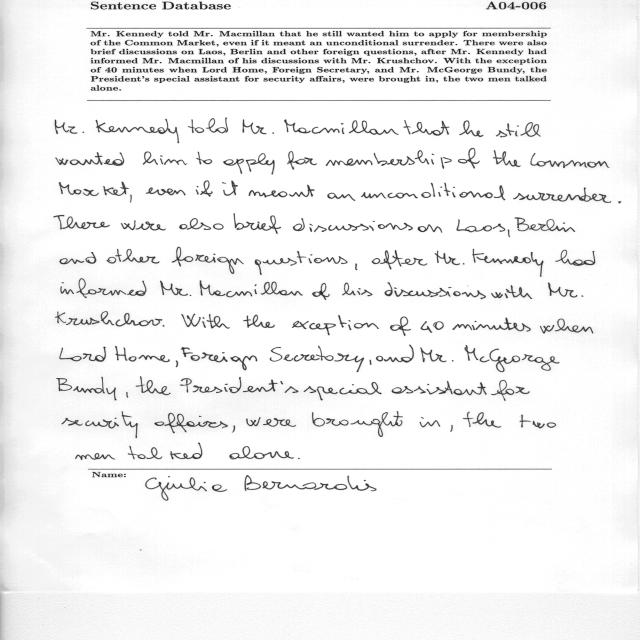word: (465, 345, 560, 372), (361, 183, 505, 200), (270, 346, 364, 372), (326, 150, 452, 169), (312, 412, 403, 437), (255, 251, 348, 275), (96, 119, 180, 143), (472, 249, 544, 277), (62, 412, 138, 438), (172, 247, 244, 274), (180, 377, 299, 393), (284, 119, 399, 135), (199, 281, 303, 298), (181, 347, 257, 370), (292, 315, 379, 335), (384, 283, 486, 300), (61, 279, 146, 299), (293, 218, 413, 232), (56, 312, 165, 327), (513, 187, 611, 203), (154, 413, 228, 433), (57, 377, 117, 401), (304, 382, 382, 400), (392, 381, 487, 395), (531, 153, 610, 168), (128, 443, 202, 459), (223, 153, 275, 175), (452, 318, 531, 332), (372, 250, 427, 269), (234, 213, 281, 234), (59, 182, 129, 196), (56, 152, 124, 166), (515, 217, 575, 232), (115, 346, 170, 362), (249, 185, 315, 198), (229, 446, 294, 459), (492, 380, 530, 401), (107, 249, 160, 264), (540, 319, 593, 334), (54, 215, 110, 229), (404, 120, 450, 136), (60, 346, 106, 362), (376, 345, 414, 363), (496, 122, 541, 137), (556, 250, 596, 266), (457, 220, 506, 233), (136, 377, 171, 395), (463, 412, 501, 428), (188, 118, 228, 133), (491, 285, 532, 299), (143, 152, 187, 165), (287, 151, 317, 170), (179, 218, 224, 230), (548, 283, 583, 298), (420, 348, 454, 363), (520, 415, 556, 429), (246, 417, 296, 427), (121, 220, 166, 231), (243, 120, 275, 135), (160, 281, 192, 296), (493, 150, 521, 167), (458, 148, 480, 169), (55, 120, 84, 135), (342, 283, 373, 297), (60, 252, 96, 264), (459, 120, 484, 137), (435, 251, 465, 265), (202, 314, 230, 329), (390, 316, 411, 336), (243, 315, 275, 328), (146, 188, 186, 196), (312, 283, 330, 300), (76, 453, 116, 460), (421, 321, 444, 333), (196, 181, 213, 197), (181, 314, 201, 327), (222, 181, 238, 196), (328, 193, 356, 201), (418, 224, 442, 233), (196, 152, 212, 165), (420, 417, 440, 427), (232, 425, 235, 433), (450, 425, 453, 432), (130, 195, 132, 203), (508, 230, 510, 238), (356, 264, 358, 270), (176, 361, 178, 367), (127, 392, 129, 398), (370, 360, 372, 365), (618, 202, 621, 204), (298, 458, 300, 459)
